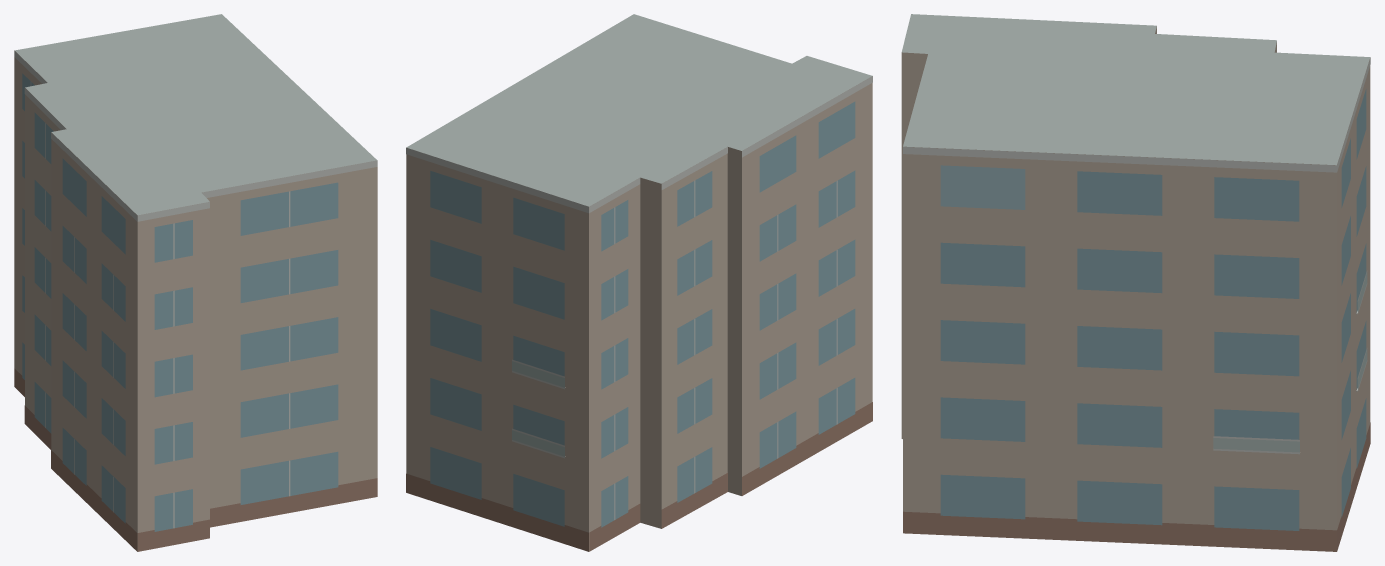
Rendered from survey-upis-32954807.glb.
The picture shows the model from 3 angles, left to right: view 1: azimuth 30°, elevation 25°; view 2: azimuth 150°, elevation 25°; view 3: azimuth 270°, elevation 25°; orthographic projection. The views are drawn at different scales.
Parts seen in each view (by area): view 1: survey-upis-32954807.tmp; view 2: survey-upis-32954807.tmp; view 3: survey-upis-32954807.tmp.
Part boxes in pixels (box(x1,y1,x2,y2)): survey-upis-32954807.tmp: box(14, 14, 377, 551); survey-upis-32954807.tmp: box(406, 14, 872, 551); survey-upis-32954807.tmp: box(901, 14, 1370, 551).
Bounding box in the file's own units: 10.66 × 12.7 × 13.96.
